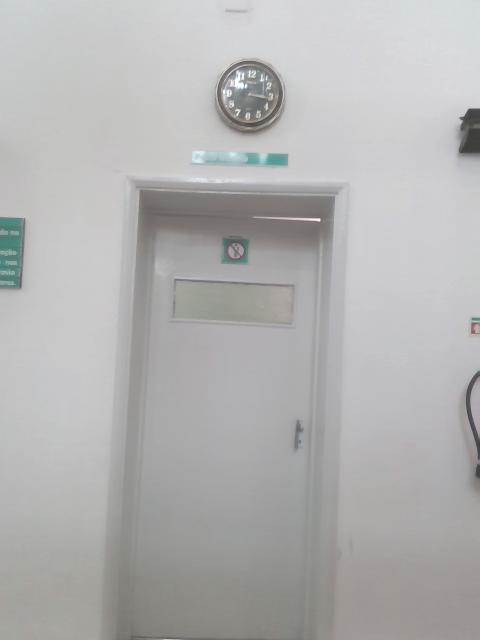closed_door: (110, 189, 337, 638)
